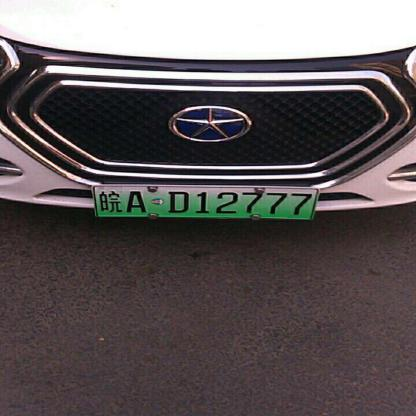lp: (96, 186, 317, 218)
